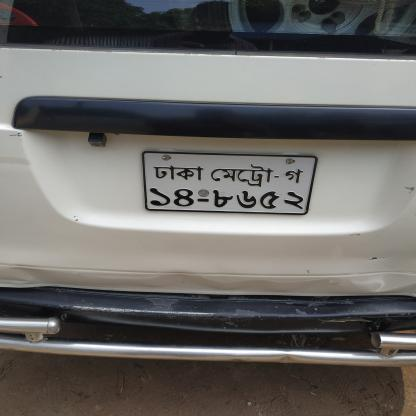license_plate: (116, 141, 380, 216)
